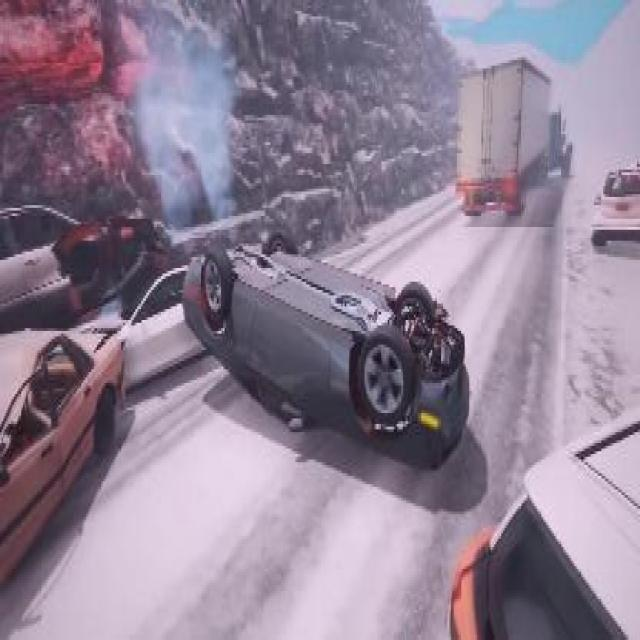accident: (178, 200, 476, 473)
